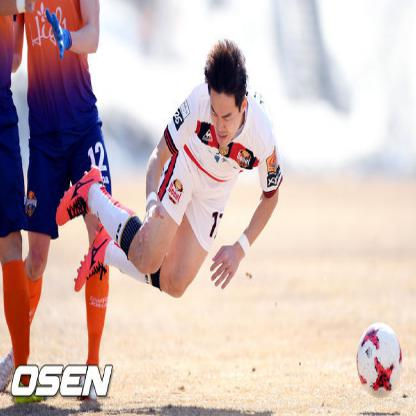Fall_Down: (56, 39, 283, 297)
